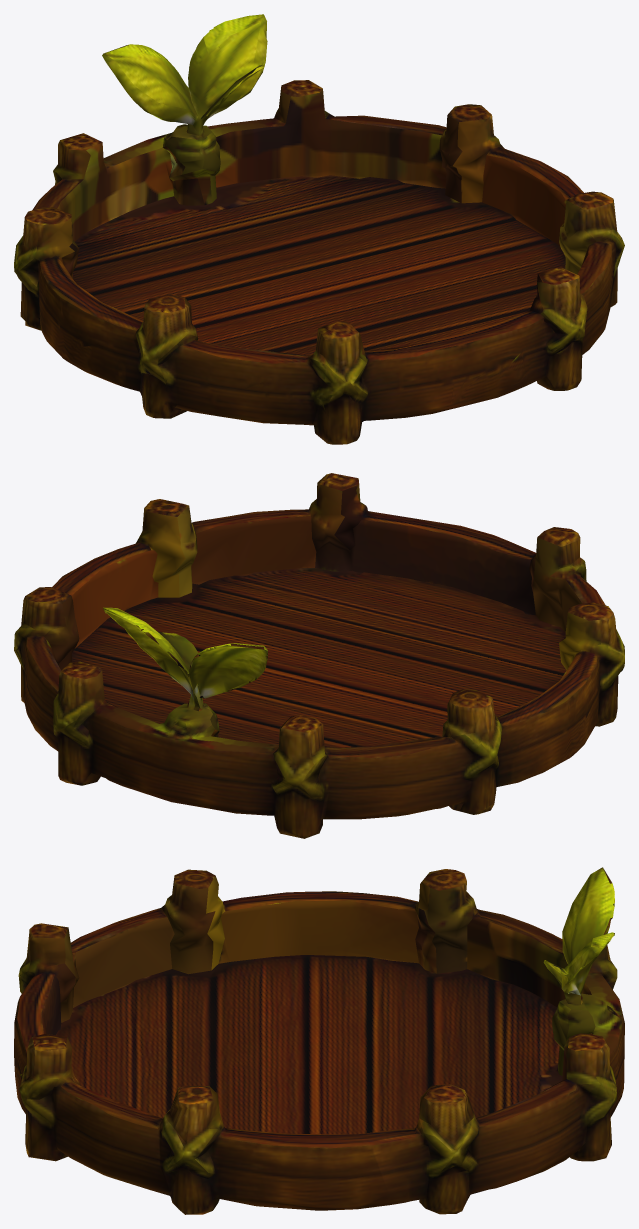
File: FeedingTray.glb
3 views of the same model, one above another, from view 1: azimuth 30°, elevation 25°; view 2: azimuth 150°, elevation 25°; view 3: azimuth 270°, elevation 25° (orthographic). The views are drawn at different scales.
Bounding box in the file's own units: 1.98 × 0.6856 × 1.99.
Materials: 1 (1 with a texture image).
